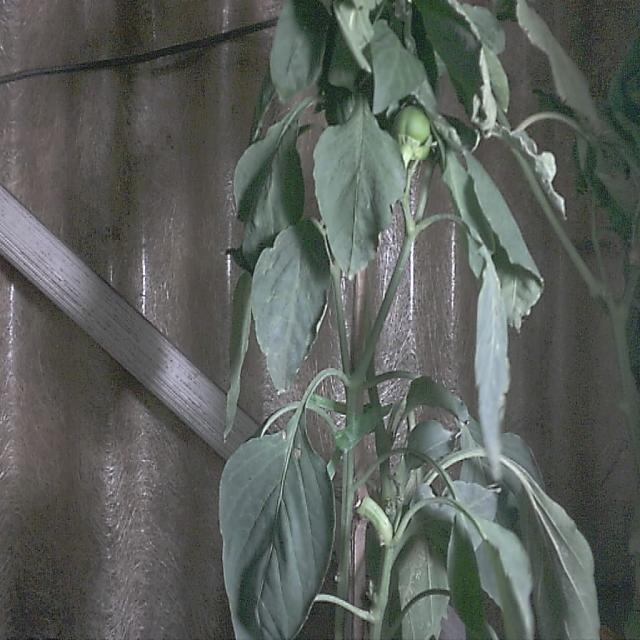Leaf: (220, 423, 334, 639), (314, 100, 405, 279), (252, 220, 329, 390), (269, 0, 330, 102), (370, 20, 426, 114), (224, 272, 251, 438)
